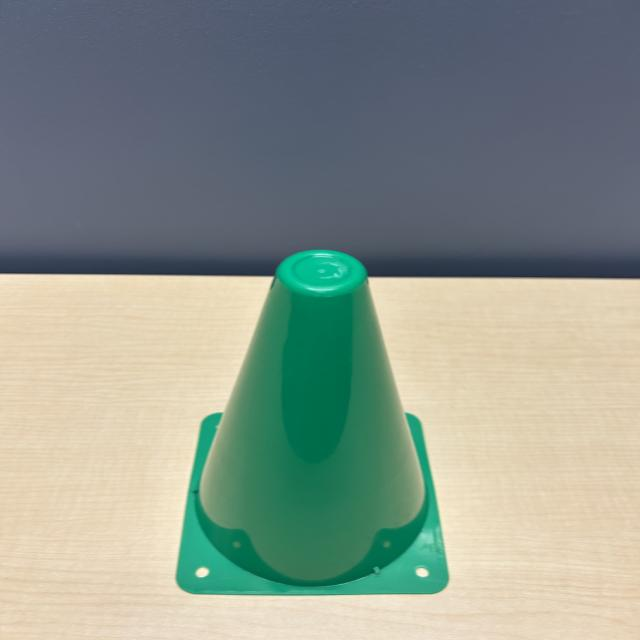green cone: (165, 248, 465, 603)
